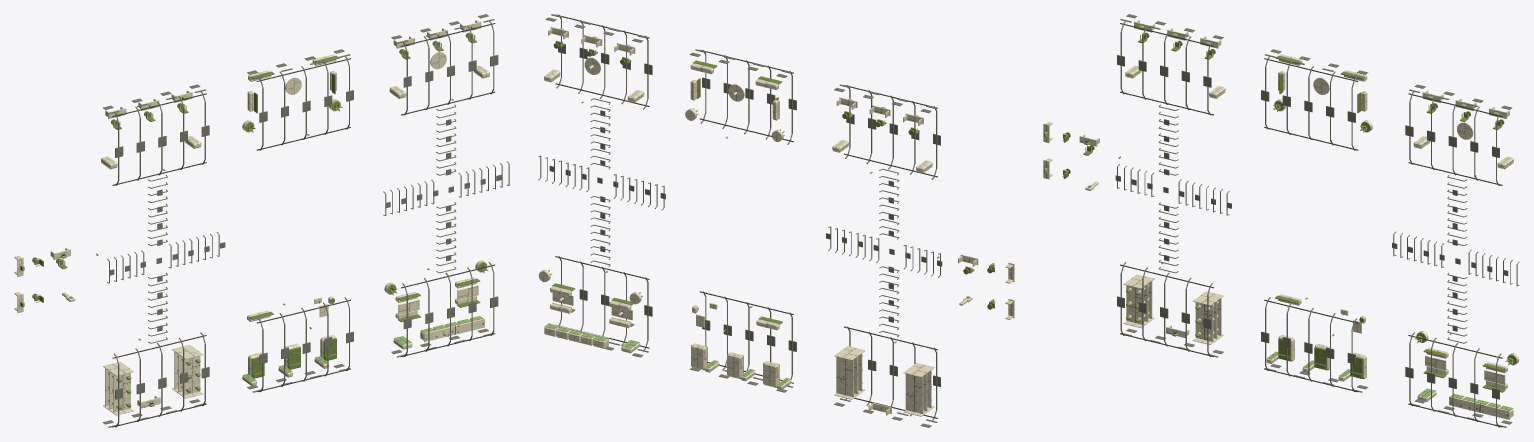
The model's file is ECHO7_Interior_Superior.obj.
The picture shows the model from 3 angles, left to right: view 1: azimuth 30°, elevation 25°; view 2: azimuth 150°, elevation 25°; view 3: azimuth 330°, elevation 25°; orthographic projection.
Visible parts, largest first — view 1: ECHO7_08_Cocina_Comedor__Encimera_01, ECHO7_20_Huerto_Reserva__Bandeja_cultivo_03, ECHO7_20_Huerto_Reserva__Bandeja_cultivo_06; view 2: ECHO7_20_Huerto_Reserva__Bandeja_cultivo_04, ECHO7_20_Huerto_Reserva__Bandeja_cultivo_01; view 3: ECHO7_08_Cocina_Comedor__Encimera_01, ECHO7_20_Huerto_Reserva__Bandeja_cultivo_03, ECHO7_20_Huerto_Reserva__Bandeja_cultivo_06.
Boxes of the visible parts, box(x1,y1,x2,y2) form: ECHO7_08_Cocina_Comedor__Encimera_01: box(424, 318, 484, 341); ECHO7_20_Huerto_Reserva__Bandeja_cultivo_03: box(182, 356, 200, 394); ECHO7_20_Huerto_Reserva__Bandeja_cultivo_06: box(113, 372, 130, 412); ECHO7_20_Huerto_Reserva__Bandeja_cultivo_04: box(905, 374, 923, 413); ECHO7_20_Huerto_Reserva__Bandeja_cultivo_01: box(836, 357, 853, 397); ECHO7_08_Cocina_Comedor__Encimera_01: box(1449, 396, 1509, 419); ECHO7_20_Huerto_Reserva__Bandeja_cultivo_03: box(1195, 302, 1213, 341); ECHO7_20_Huerto_Reserva__Bandeja_cultivo_06: box(1126, 285, 1143, 324).
Size of the model in its own units: 66.98 by 41.76 by 3.9.
Materials: 9 (9 with a texture image).
